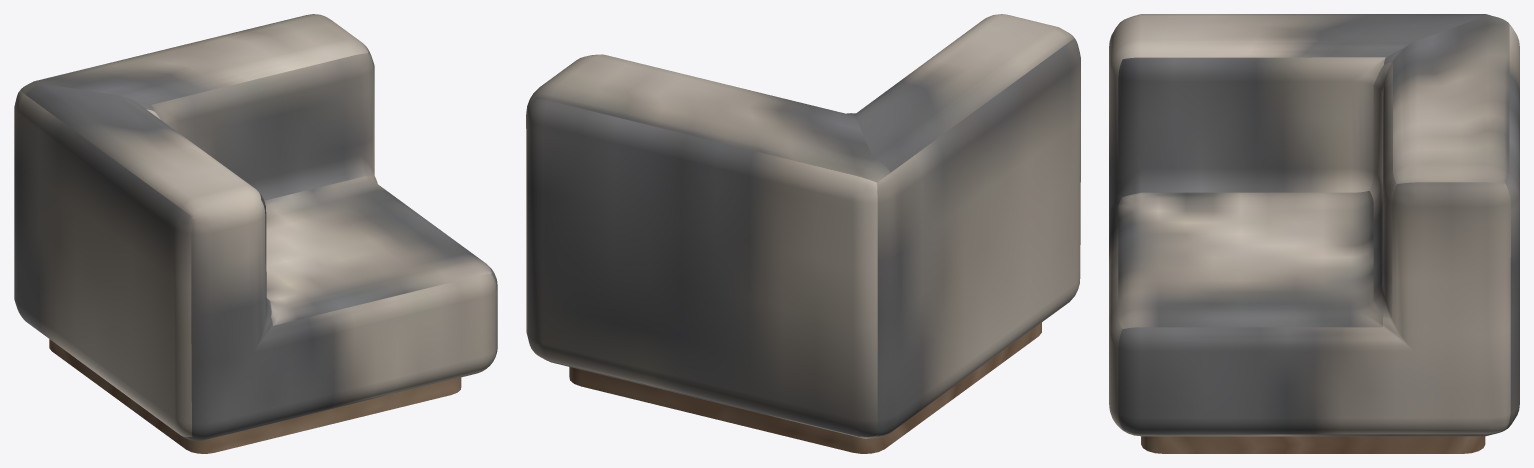
Rendered from Sofa One.fbx.
The picture shows the model from 3 angles, left to right: view 1: azimuth 30°, elevation 25°; view 2: azimuth 150°, elevation 25°; view 3: azimuth 270°, elevation 25°; orthographic projection. The views are drawn at different scales.
Parts seen in each view (by area): view 1: Plane.056; view 2: Plane.056; view 3: Plane.056.
Boxes of the visible parts, left/top/right/bottom form: Plane.056: left=14, top=14, right=497, bottom=453; Plane.056: left=526, top=14, right=1080, bottom=453; Plane.056: left=1109, top=14, right=1519, bottom=453.
Bounding box in the file's own units: 90 × 70 × 90.
Materials: 2 (2 with a texture image).
